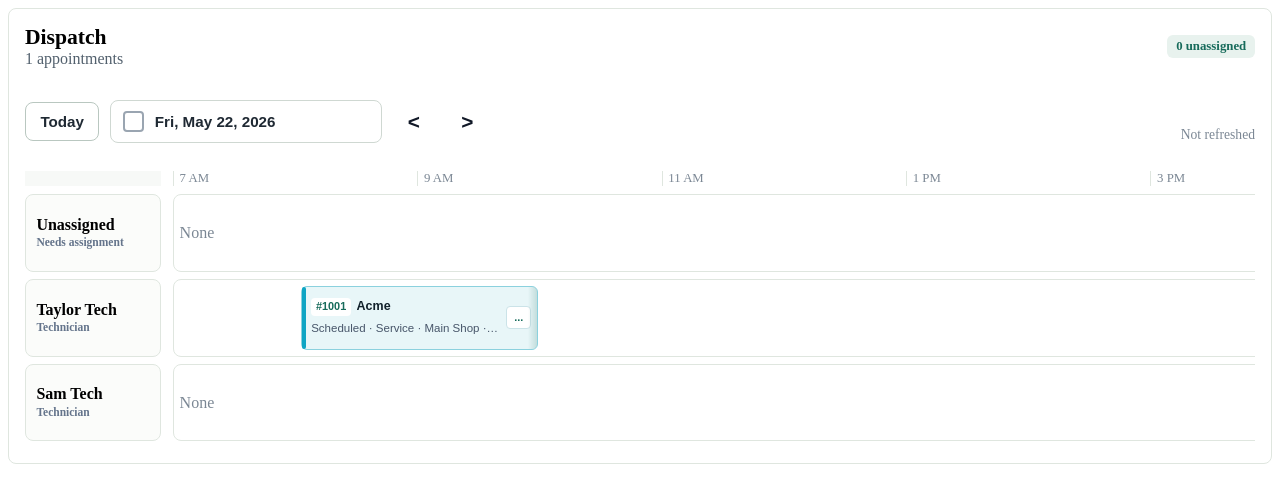
DispatchBoardPanel › reassigns an assigned card to the unassigned row
Press the mouse on the button with aria-label "Job 1001" at (401, 318), box [302, 287, 501, 349]
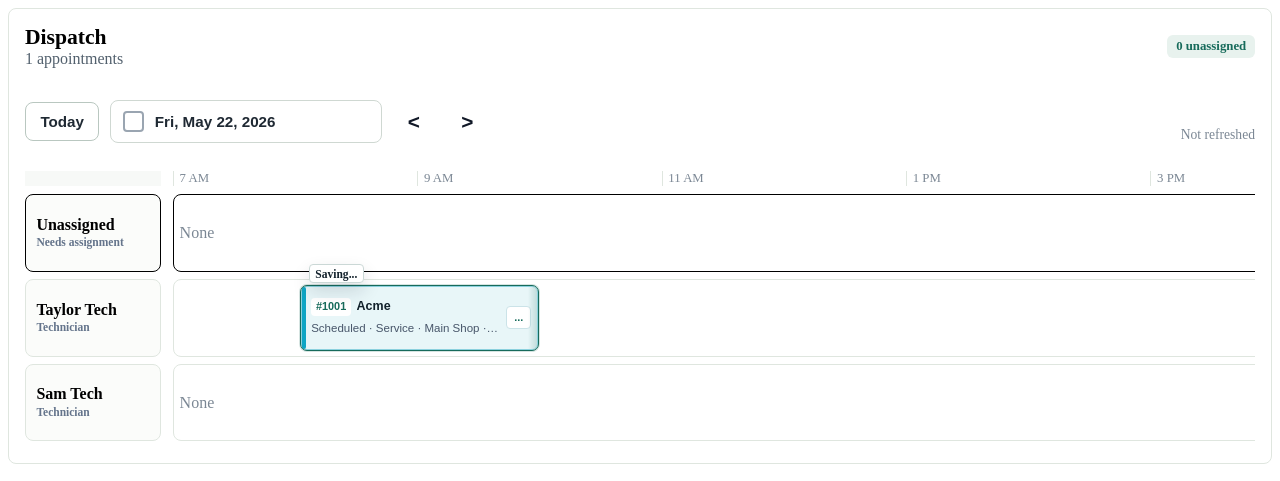
Now the text "Move to Unassigned" is shown, box [309, 264, 364, 283]
